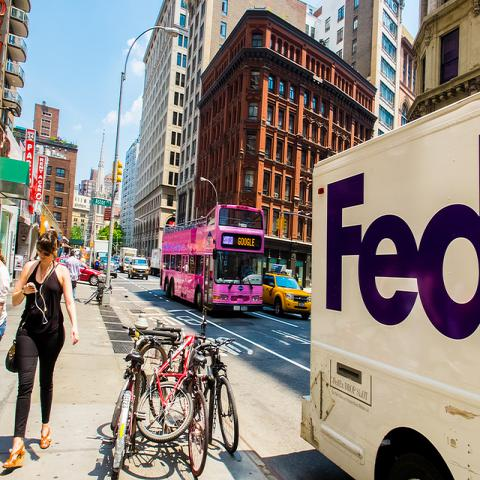bus: (161, 206, 265, 308)
car: (263, 274, 312, 322), (56, 257, 107, 286), (127, 256, 149, 280), (104, 262, 117, 278)
truck: (301, 92, 479, 476), (92, 239, 109, 270), (128, 257, 149, 281), (120, 247, 138, 273)
